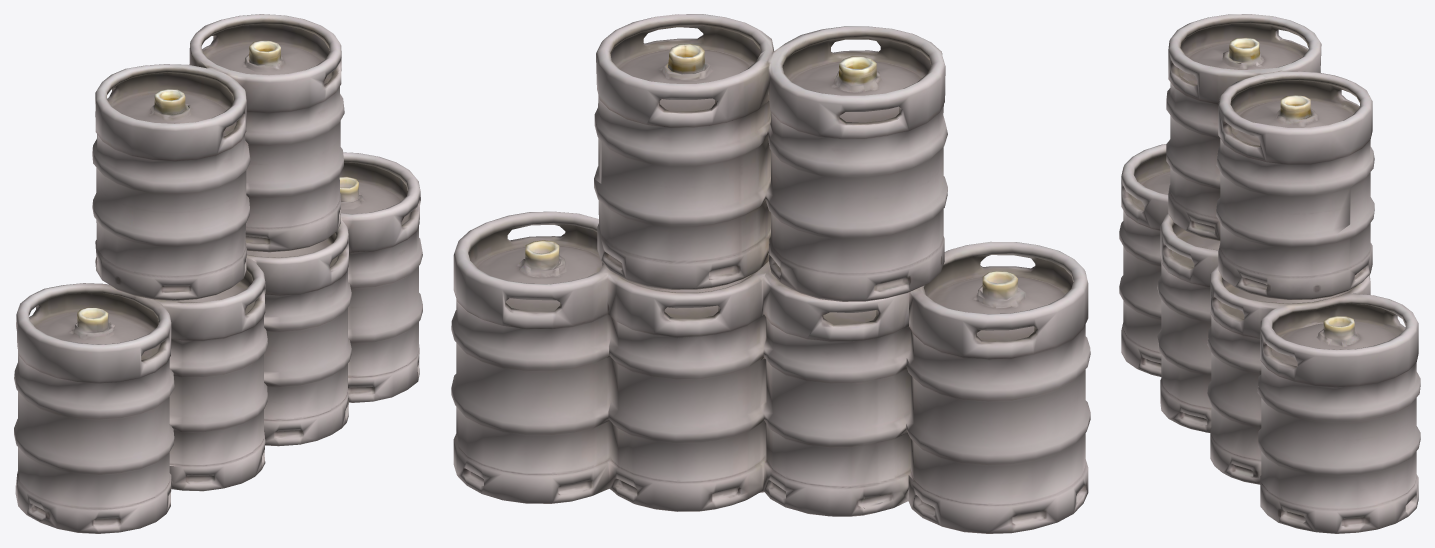
File: kegs.glb
The picture shows the model from 3 angles, left to right: view 1: azimuth 30°, elevation 25°; view 2: azimuth 150°, elevation 25°; view 3: azimuth 270°, elevation 25°; orthographic projection. The views are drawn at different scales.
Visible parts, largest first — view 1: tripo_node_6aa126b5-35c3-4751-bd4b-03e799bde2a2; view 2: tripo_node_6aa126b5-35c3-4751-bd4b-03e799bde2a2; view 3: tripo_node_6aa126b5-35c3-4751-bd4b-03e799bde2a2.
Boxes of the visible parts, box(x1,y1,x2,y2) form: tripo_node_6aa126b5-35c3-4751-bd4b-03e799bde2a2: box(14, 14, 422, 533); tripo_node_6aa126b5-35c3-4751-bd4b-03e799bde2a2: box(451, 14, 1090, 533); tripo_node_6aa126b5-35c3-4751-bd4b-03e799bde2a2: box(1119, 14, 1420, 533).
Size of the model in its own units: 0.9779 by 0.7521 by 0.576.
Materials: 1 (1 with a texture image).
